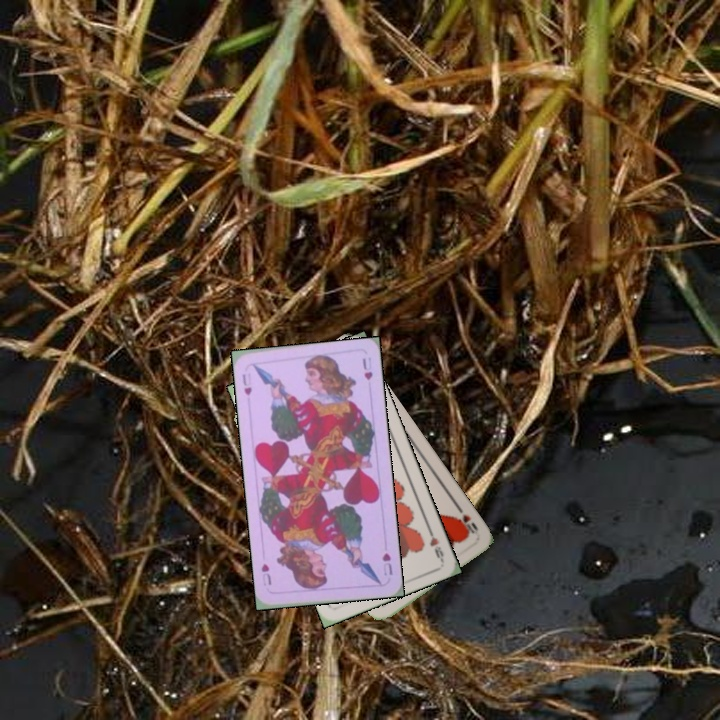H9: (424, 524, 446, 563)
HO: (452, 502, 481, 539)
HU: (378, 549, 395, 578), (238, 369, 254, 398)
